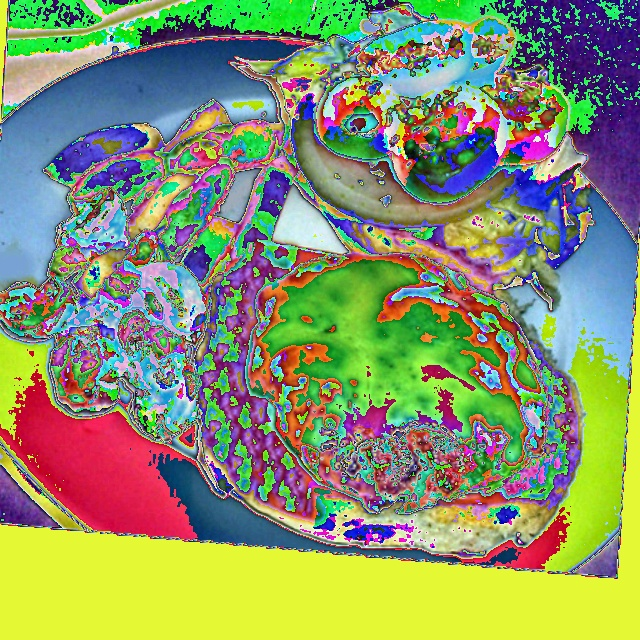background: (0, 0, 590, 557)
